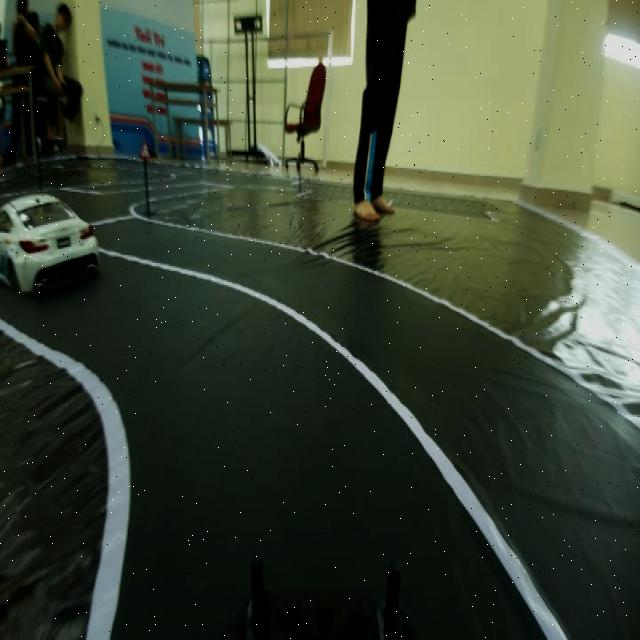car: (1, 172, 100, 310)
